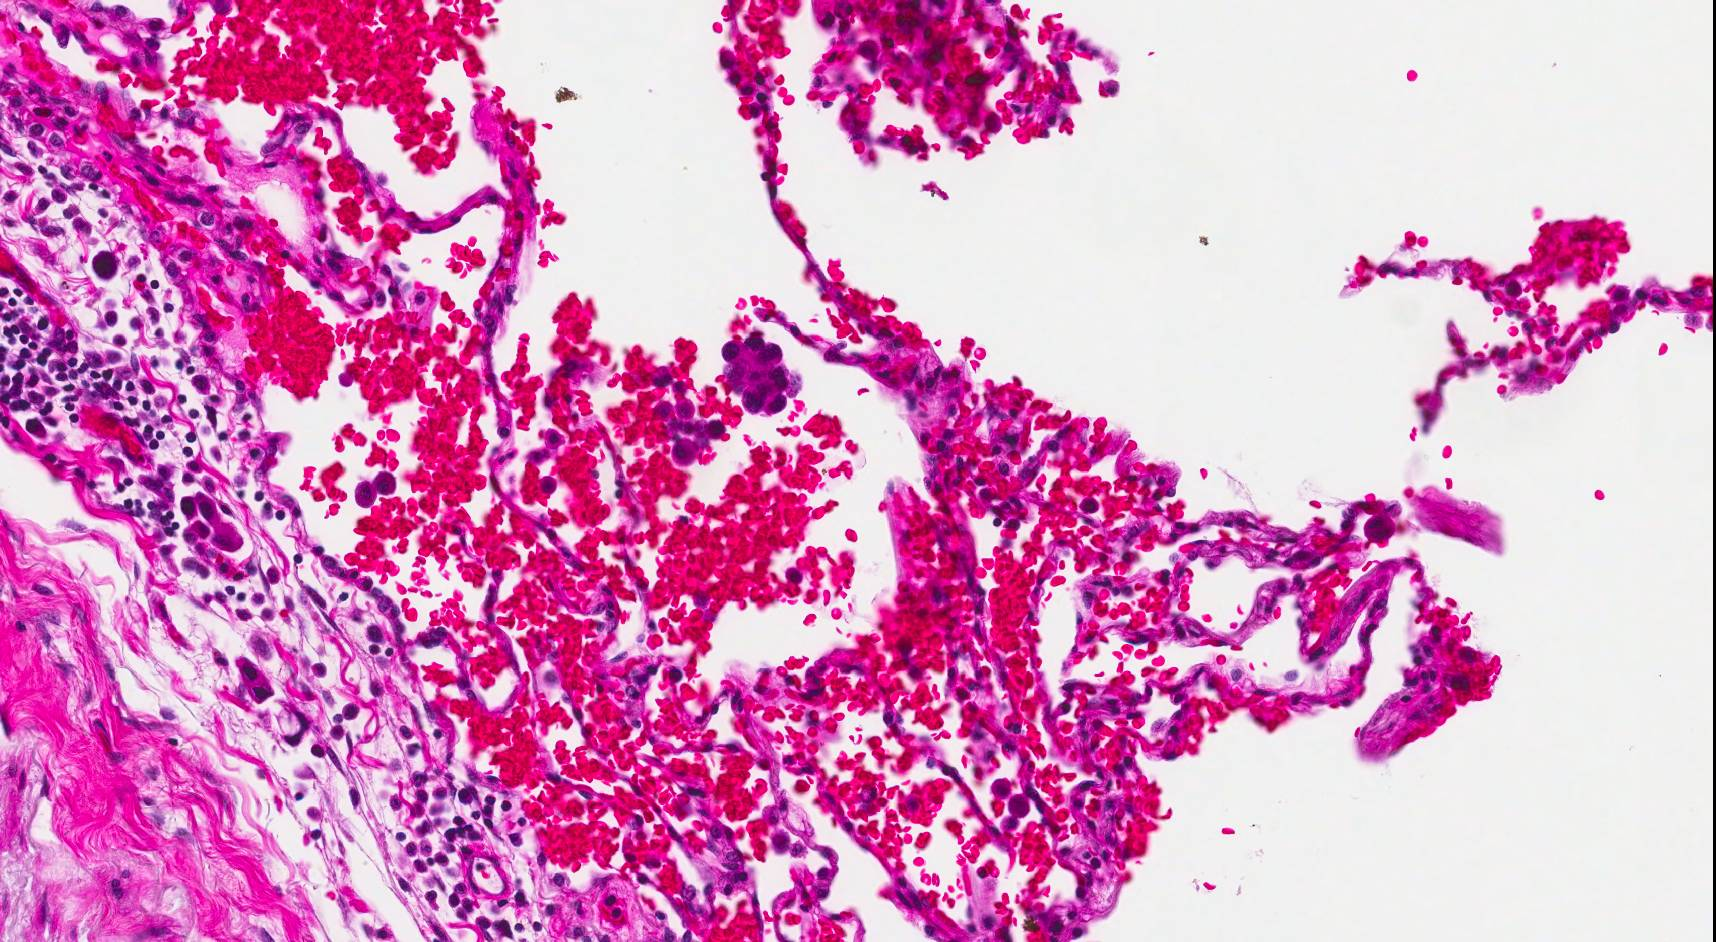stas: (716, 333, 793, 418)
